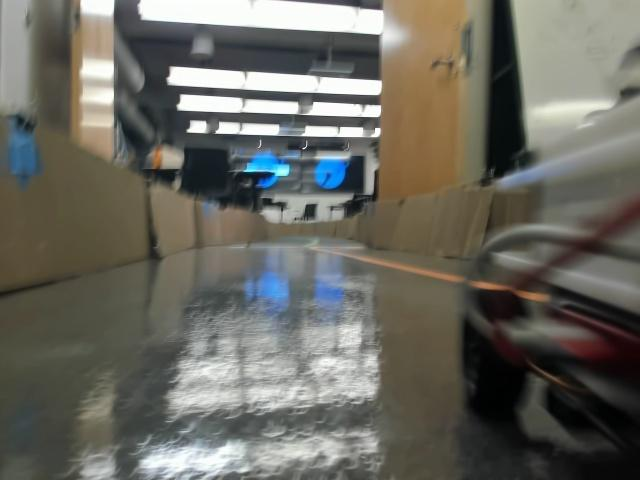Car: (482, 96, 639, 450)
